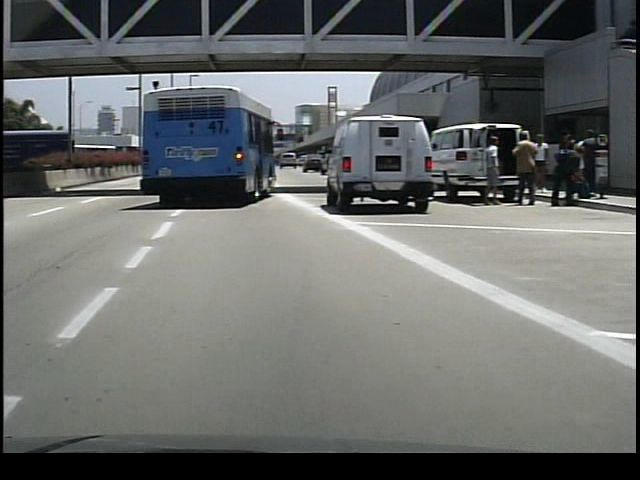person: (506, 130, 535, 211), (477, 133, 501, 210)
